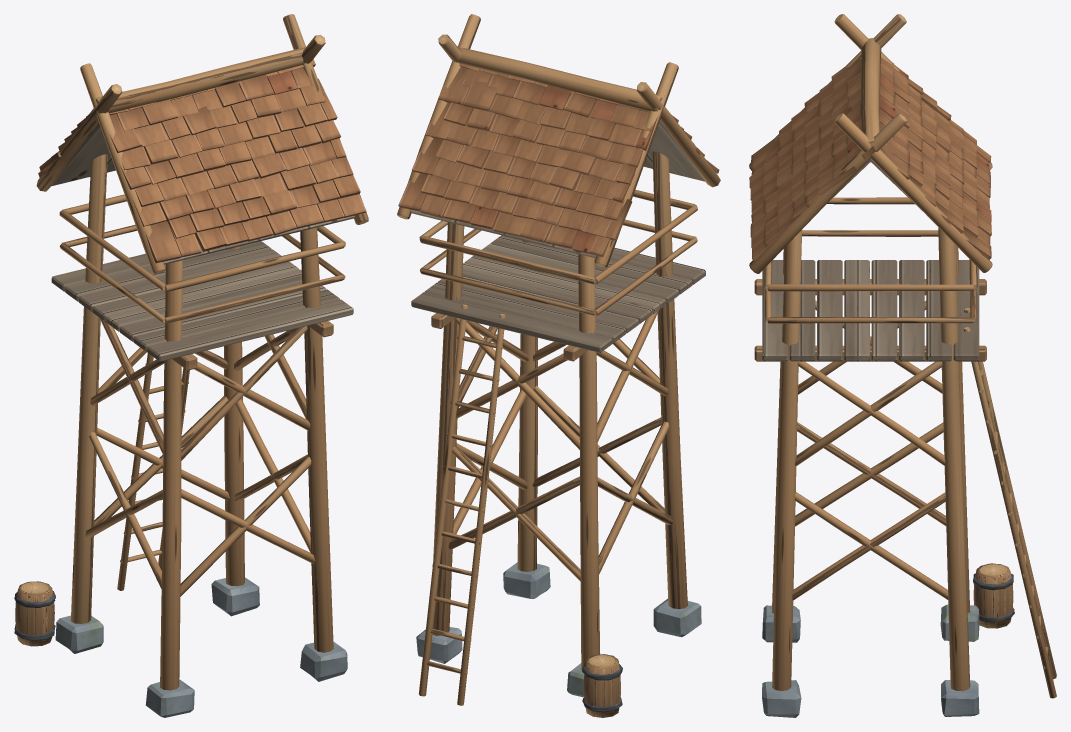
Rendered from bw_lookout_tower.fbx.
The picture shows the model from 3 angles, left to right: view 1: azimuth 30°, elevation 25°; view 2: azimuth 150°, elevation 25°; view 3: azimuth 270°, elevation 25°; orthographic projection. The views are drawn at different scales.
Parts seen in each view (by area): view 1: bw_lookout_tower; view 2: bw_lookout_tower; view 3: bw_lookout_tower.
Part boxes in pixels (bbox=[...]): bw_lookout_tower: bbox=[14, 14, 368, 717]; bw_lookout_tower: bbox=[397, 14, 720, 717]; bw_lookout_tower: bbox=[749, 14, 1056, 717].
Size of the model in its own units: 2.02 by 5.05 by 2.31.
